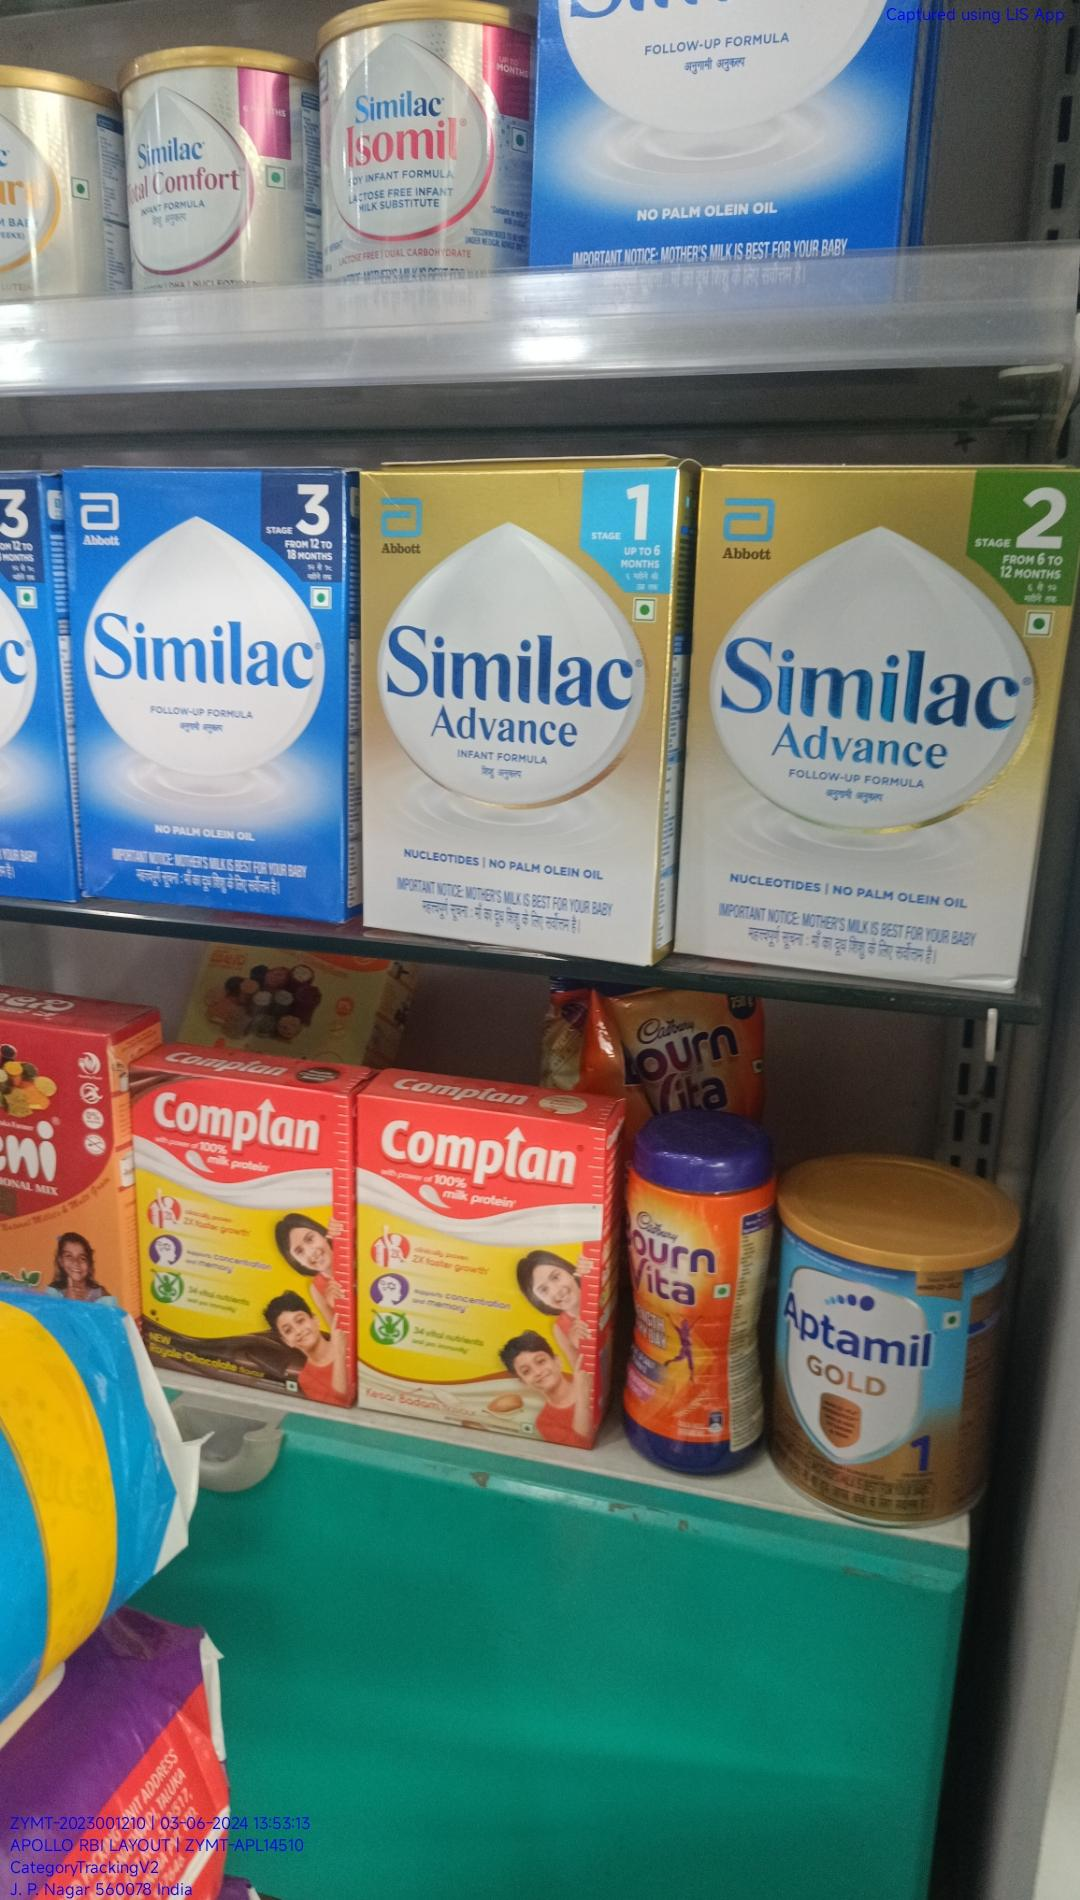BOURN_VITA_500_G_JAR: (620, 1129, 759, 1473)
COMPLAN_CHOCOLATE_500_GMS_PACK: (132, 1074, 351, 1408)
COMPLAN_KESAR_BADAM_500_GMS_PACK: (355, 1105, 593, 1446)
